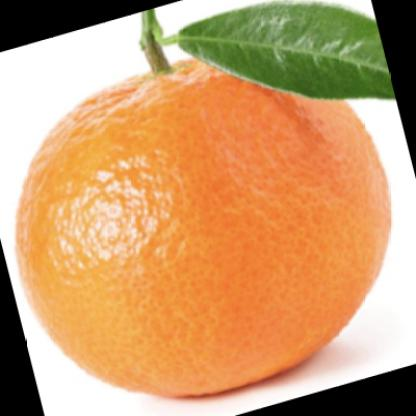orange: (15, 39, 397, 399)
